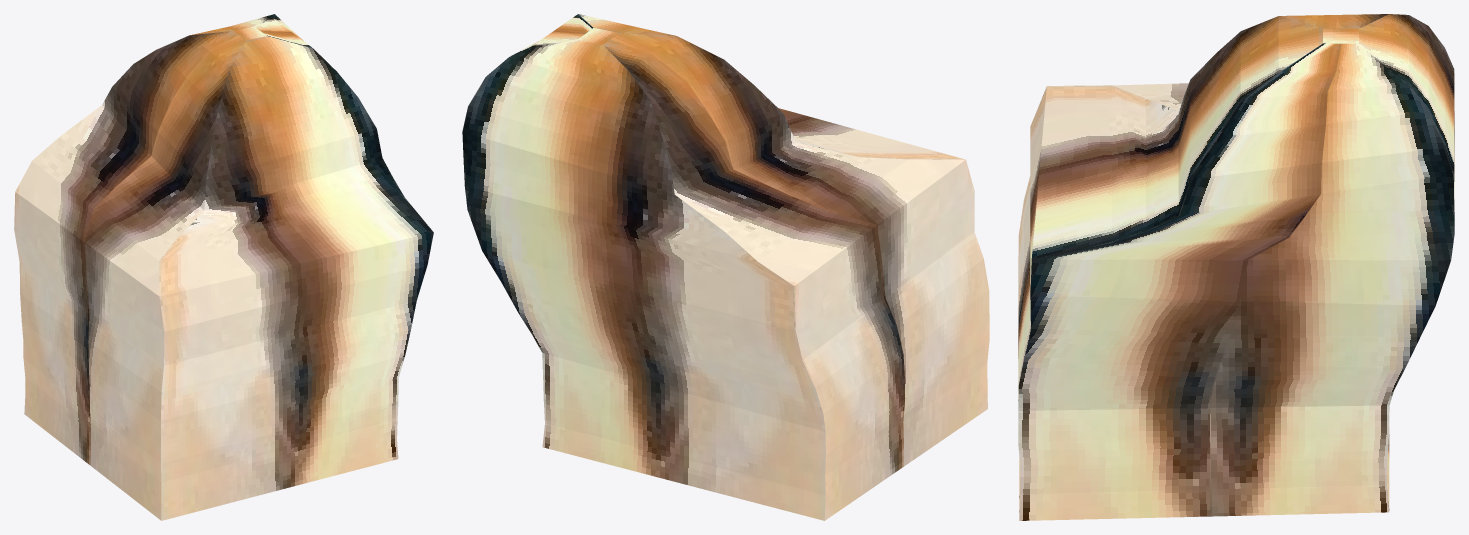
3 renders of one model, left to right at view 1: azimuth 30°, elevation 25°; view 2: azimuth 150°, elevation 25°; view 3: azimuth 270°, elevation 25°, orthographic. The views are drawn at different scales.
Parts seen in each view (by area): view 1: SPLICE_2.001; view 2: SPLICE_2.001; view 3: SPLICE_2.001.
Part boxes in pixels (<box>): SPLICE_2.001: <box>14,14,433,520</box>; SPLICE_2.001: <box>462,14,989,520</box>; SPLICE_2.001: <box>1018,14,1454,520</box>.
Size of the model in its own units: 1.02 by 1.22 by 1.02.
1 material, 1 textured.
